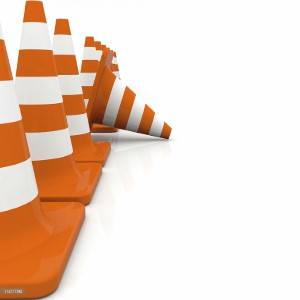traffic cone: (1, 11, 85, 299), (4, 1, 101, 206), (32, 18, 111, 167), (87, 47, 172, 140), (65, 35, 118, 133)
